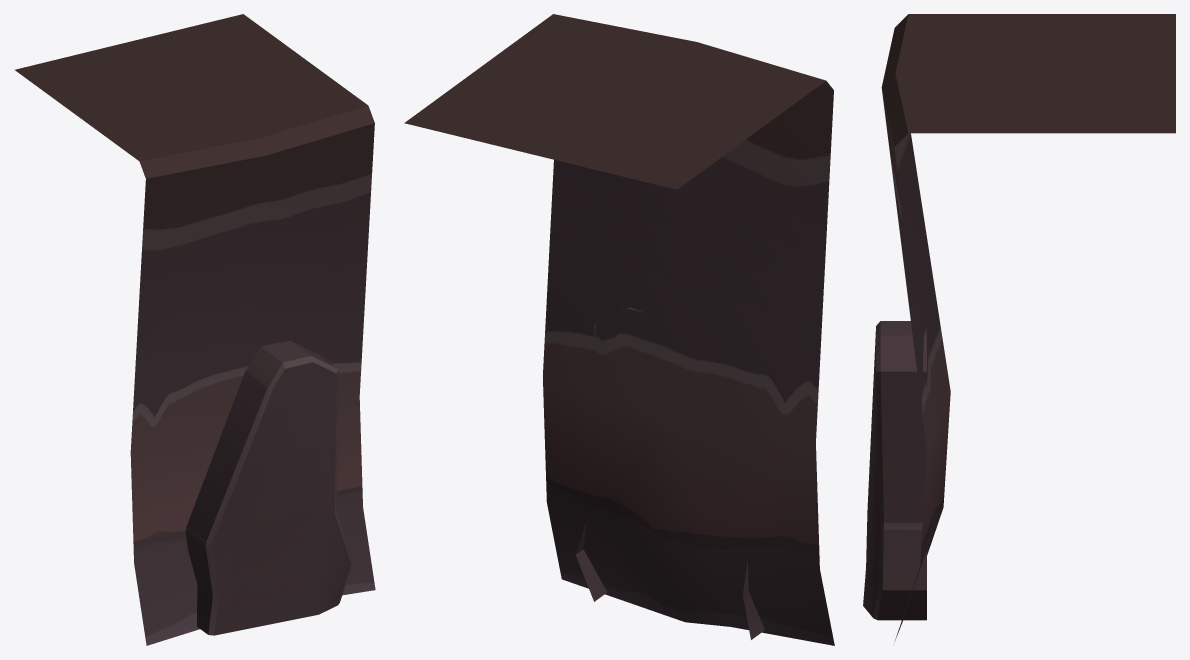
File: M_Wall_06.fbx
3 renders of one model, left to right at view 1: azimuth 30°, elevation 25°; view 2: azimuth 150°, elevation 25°; view 3: azimuth 270°, elevation 25°, orthographic. The views are drawn at different scales.
Visible parts, largest first — view 1: M_Walls.010; view 2: M_Walls.010; view 3: M_Walls.010.
Boxes of the visible parts, left/top/right/bottom form: M_Walls.010: left=15, top=14, right=375, bottom=645; M_Walls.010: left=404, top=14, right=834, bottom=645; M_Walls.010: left=863, top=14, right=1175, bottom=641.
Bounding box in the file's own units: 200 × 400 × 221.
